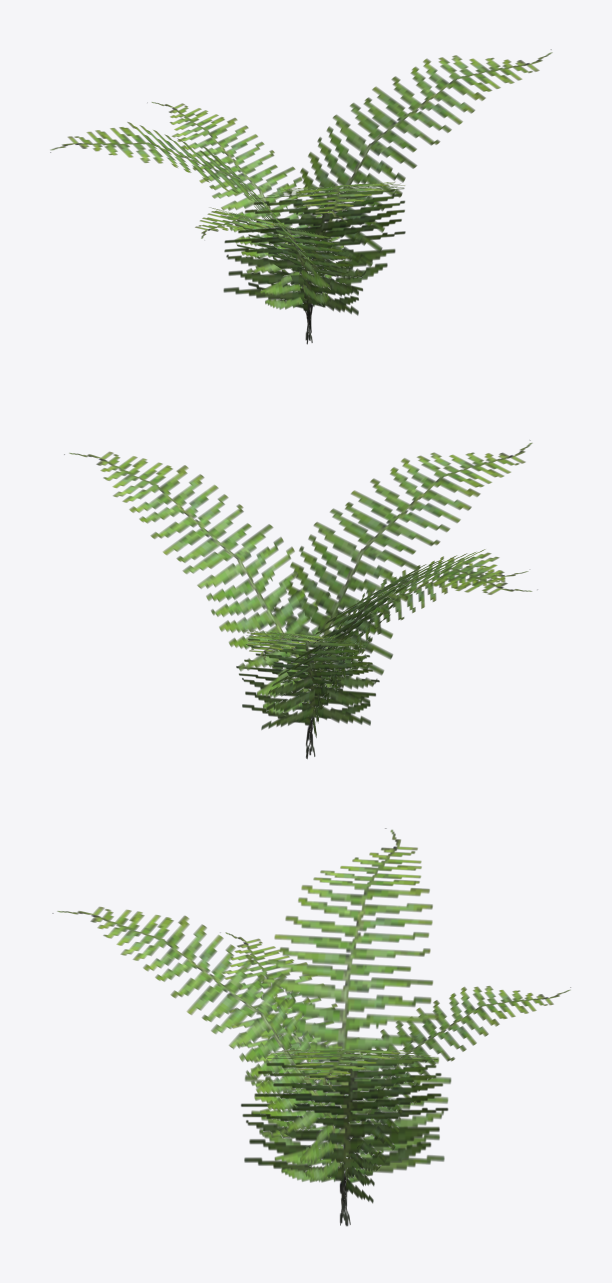
The model's file is bush60.glb.
The picture shows the model from 3 angles, top to bottom: view 1: azimuth 30°, elevation 25°; view 2: azimuth 150°, elevation 25°; view 3: azimuth 270°, elevation 25°; orthographic projection. The views are drawn at different scales.
Visible parts, largest first — view 1: bush60; view 2: bush60; view 3: bush60.
Part boxes in pixels (x1,y1,x2,y2): bush60: (50, 49, 552, 344); bush60: (64, 440, 537, 758); bush60: (52, 828, 570, 1226).
Size of the model in its own units: 3.19 by 1.45 by 2.91.
1 material, 1 textured.
